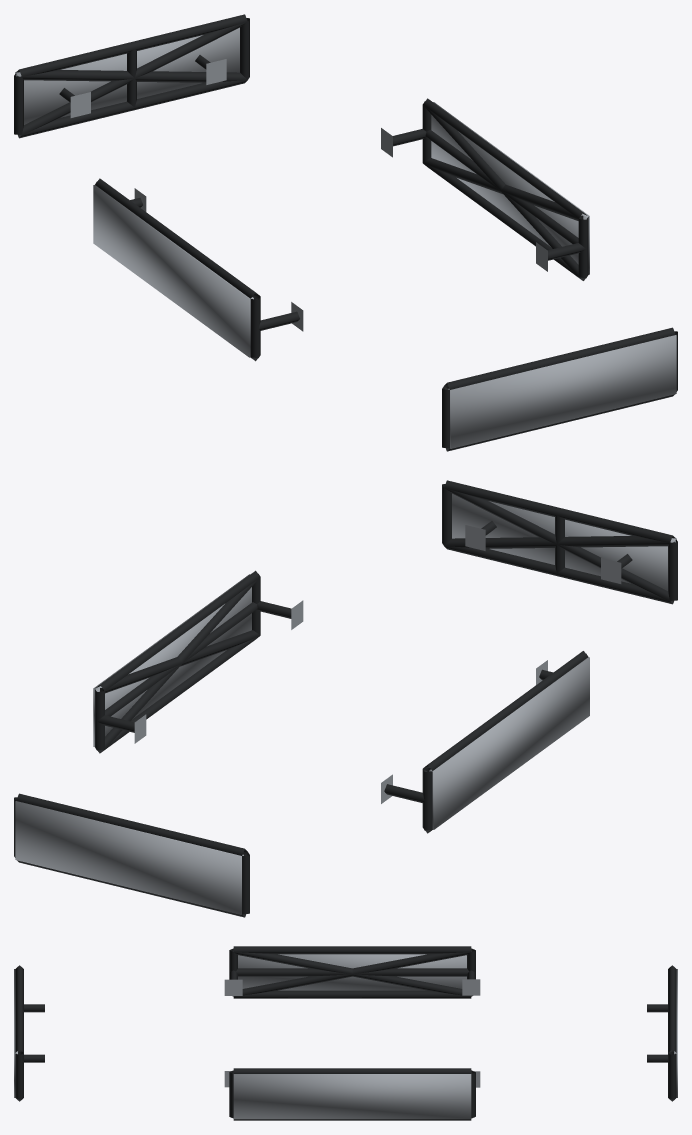
Rendered from bancroft_grao_protecao.glb.
3 renders of one model, top to bottom at view 1: azimuth 30°, elevation 25°; view 2: azimuth 150°, elevation 25°; view 3: azimuth 270°, elevation 25°, orthographic. The views are drawn at different scales.
Visible parts, largest first — view 1: Protection_front_Level3_Details, Protection_left_Level3_Details, Protection_rear_Level1_Details, Protection_rear_Level3_Details, Protection_right_Level1_Details, Protection_rear_Level2_Details, Protection_right_Level2_Details, Protection_right_Level3_Details, Protection_left_Level1_Details, Protection_front_Level1_Details; view 2: Protection_rear_Level3_Details, Protection_left_Level3_Details, Protection_front_Level1_Details, Protection_front_Level3_Details, Protection_right_Level1_Details, Protection_front_Level2_Details, Protection_right_Level2_Details, Protection_right_Level3_Details, Protection_left_Level1_Details, Protection_rear_Level1_Details; view 3: Protection_right_Level3_Details, Protection_left_Level1_Details, Protection_left_Level2_Details, Protection_left_Level3_Details, Protection_right_Level1_Details, Protection_rear_Level1_Details, Protection_front_Level1_Details.
Boxes of the visible parts, x1,y1,x2,y2 form: Protection_front_Level3_Details: (448, 335, 676, 448); Protection_left_Level3_Details: (93, 185, 253, 357); Protection_rear_Level1_Details: (14, 14, 249, 138); Protection_rear_Level3_Details: (15, 27, 239, 124); Protection_right_Level1_Details: (381, 98, 588, 280); Protection_rear_Level2_Details: (16, 22, 247, 136); Protection_right_Level2_Details: (423, 105, 587, 280); Protection_right_Level3_Details: (431, 102, 589, 274); Protection_left_Level1_Details: (95, 178, 303, 361); Protection_front_Level1_Details: (442, 327, 677, 451); Protection_rear_Level3_Details: (15, 801, 243, 914); Protection_left_Level3_Details: (429, 657, 589, 829); Protection_front_Level1_Details: (442, 480, 677, 604); Protection_front_Level3_Details: (452, 493, 676, 590); Protection_right_Level1_Details: (95, 570, 303, 753); Protection_front_Level2_Details: (444, 488, 675, 602); Protection_right_Level2_Details: (96, 578, 260, 752); Protection_right_Level3_Details: (93, 574, 251, 746); Protection_left_Level1_Details: (381, 651, 588, 833); Protection_rear_Level1_Details: (14, 793, 249, 917); Protection_right_Level3_Details: (233, 1074, 471, 1119); Protection_left_Level1_Details: (224, 946, 480, 998); Protection_left_Level2_Details: (233, 949, 471, 996); Protection_left_Level3_Details: (238, 954, 466, 990); Protection_right_Level1_Details: (224, 1068, 480, 1120); Protection_rear_Level1_Details: (647, 965, 676, 1101); Protection_front_Level1_Details: (15, 965, 44, 1101).
Size of the model in its own units: 1.83 by 0.354 by 4.05.
Materials: 1 (1 with a texture image).
